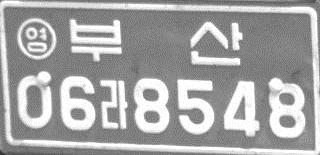0: (15, 73, 52, 129)
4: (223, 79, 259, 137)
5: (176, 78, 214, 135)
6: (58, 74, 96, 131)
8: (267, 81, 306, 139), (132, 77, 170, 134)
라: (98, 78, 129, 130)
부산_D: (68, 18, 243, 67)
영: (15, 17, 57, 62)
